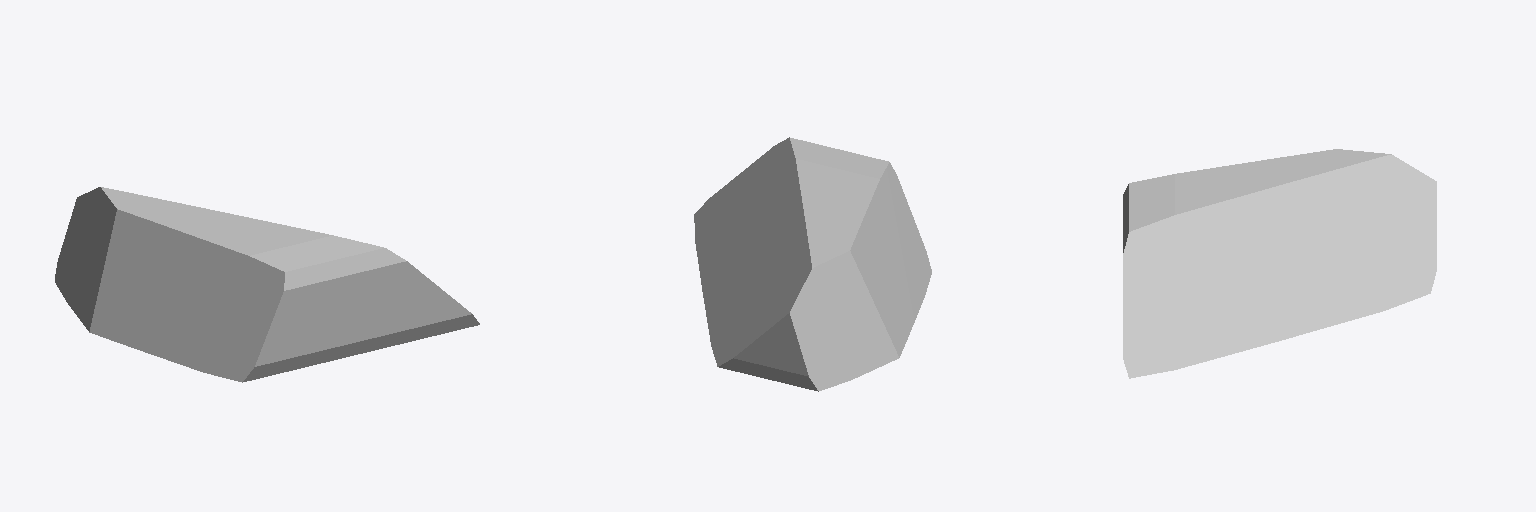
File: torii_broken_011.obj
The picture shows the model from 3 angles: view 1: azimuth 30°, elevation 25°; view 2: azimuth 150°, elevation 25°; view 3: azimuth 270°, elevation 25°; orthographic projection.
Visible parts, largest first — view 1: 鳥居.001_cell.011_鳥居.001_cell.037; view 2: 鳥居.001_cell.011_鳥居.001_cell.037; view 3: 鳥居.001_cell.011_鳥居.001_cell.037.
Part boxes in pixels (bbox=[...]): 鳥居.001_cell.011_鳥居.001_cell.037: bbox=[55, 187, 479, 382]; 鳥居.001_cell.011_鳥居.001_cell.037: bbox=[694, 137, 931, 391]; 鳥居.001_cell.011_鳥居.001_cell.037: bbox=[1123, 149, 1436, 378].
Size of the model in its own units: 0.4716 by 0.1609 by 0.431.